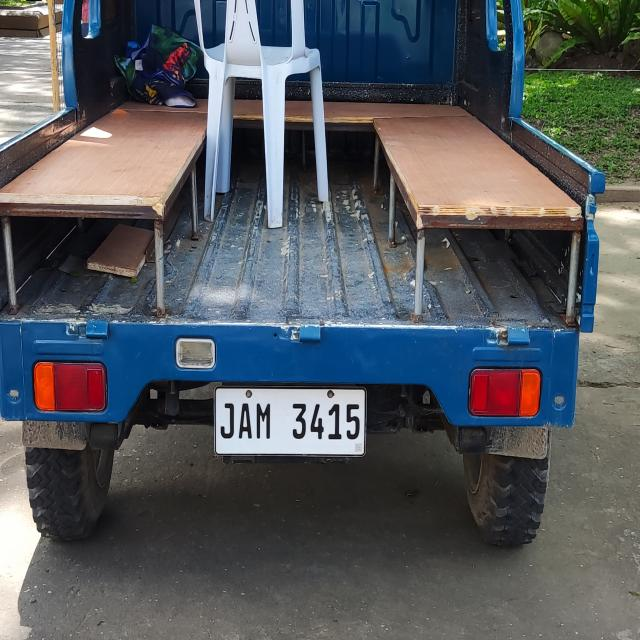plate: (213, 384, 368, 458)
